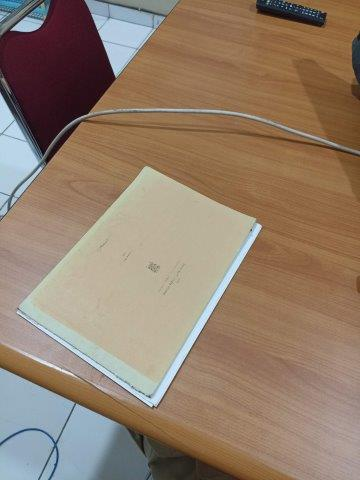kertas: (17, 164, 262, 407)
